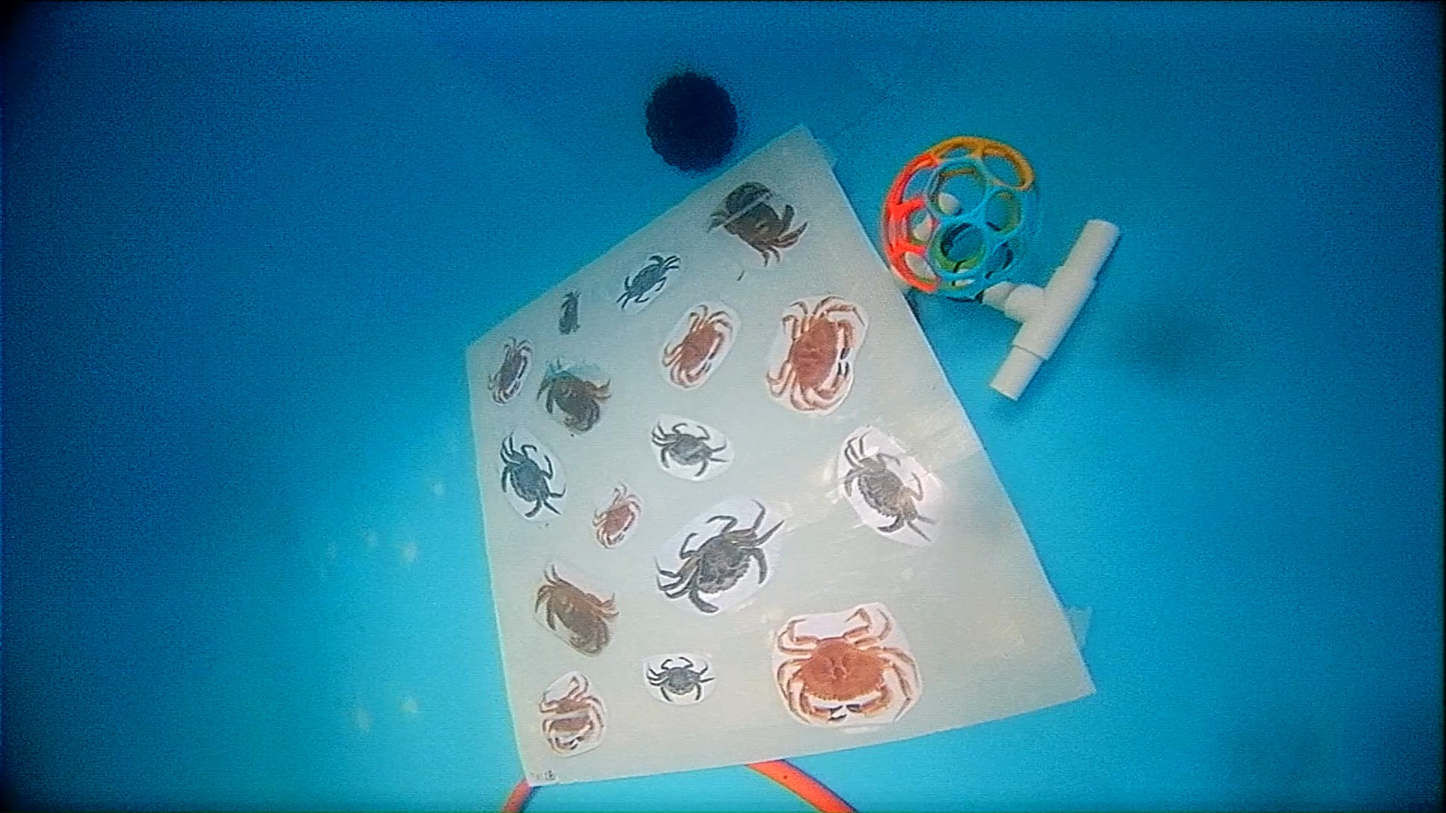GreenCrab: (657, 501, 783, 612), (844, 438, 934, 539), (500, 435, 565, 518), (652, 422, 725, 477), (616, 254, 679, 305), (646, 656, 714, 702)
